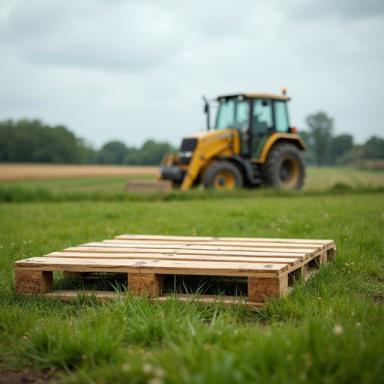pallet: (14, 234, 337, 308), (164, 274, 248, 296), (52, 271, 128, 291)
